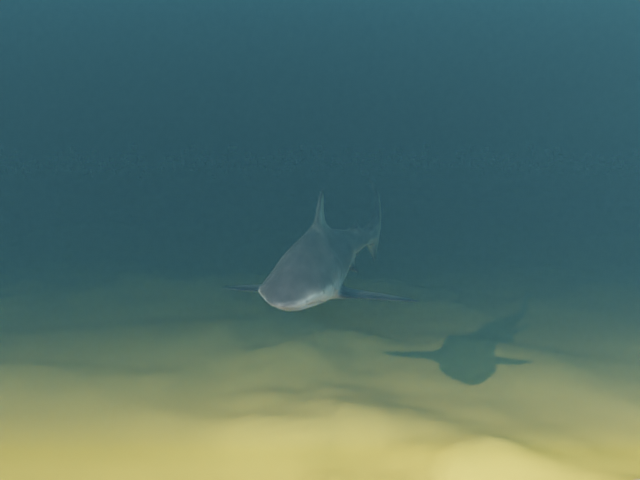Carribean Shark.001: (221, 178, 419, 311)
